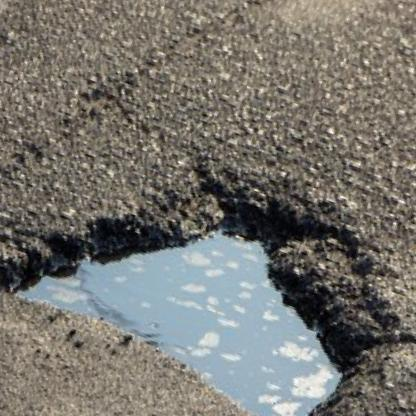pothole: (0, 103, 416, 416)
